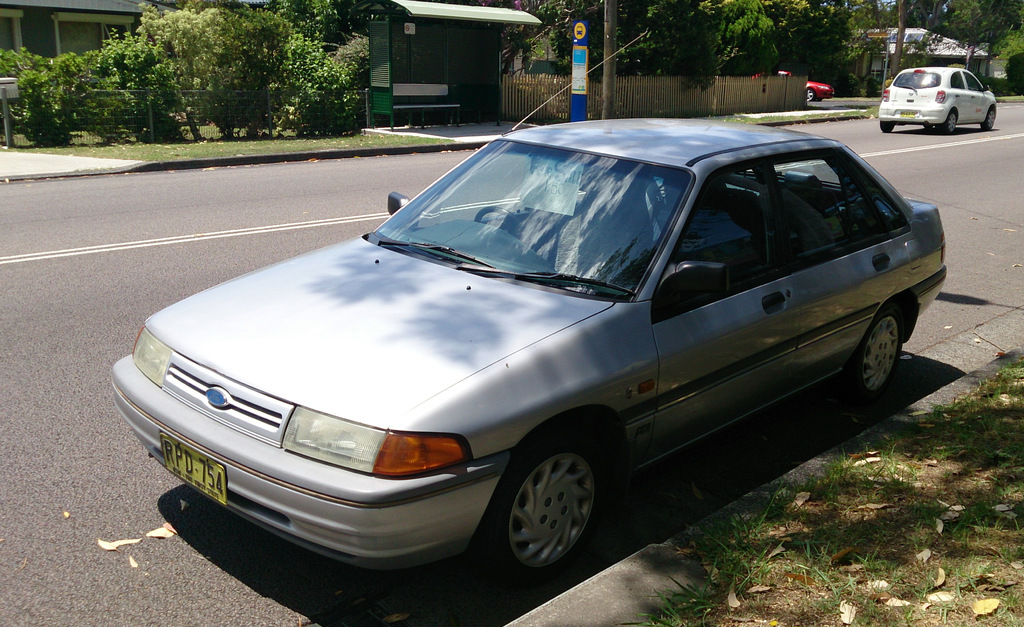Car: (108, 28, 946, 580), (878, 55, 996, 132), (750, 69, 833, 99)
